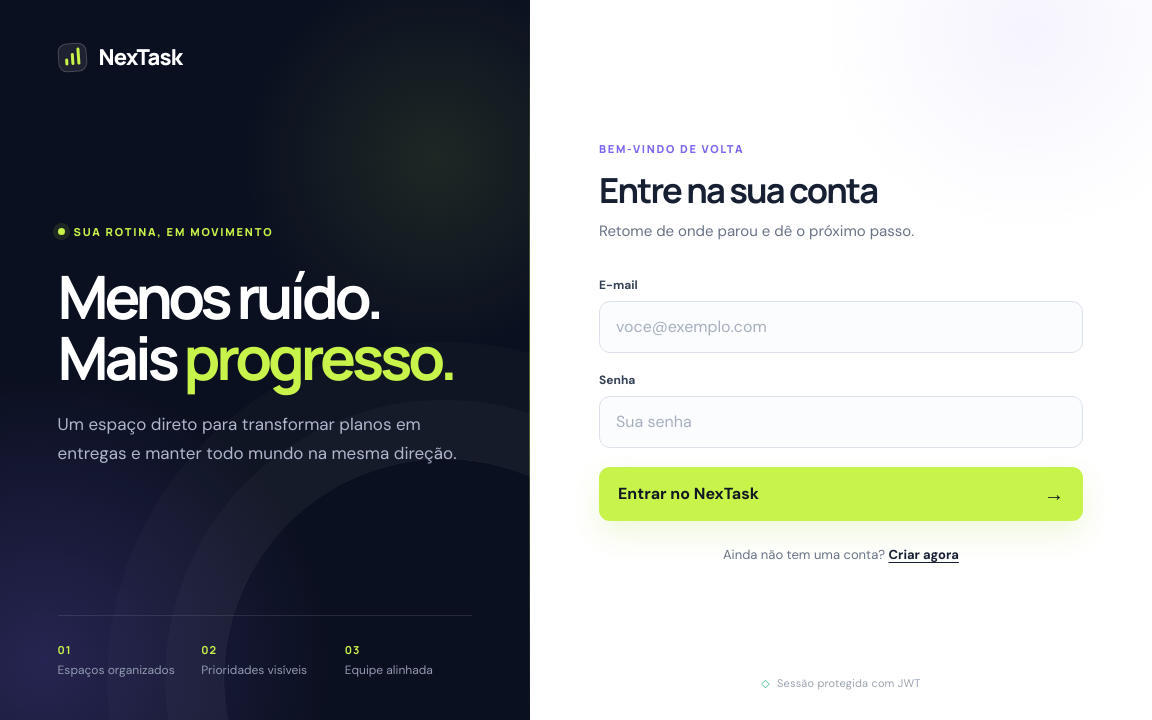
Test: NexTask frontend › shows the problem detail returned by the backend
Type "ana@example.com" into the field labelled "E-mail".
click(841, 327); type("ana@example.com")  # box top-left (599, 301), bottom-right (1083, 353)
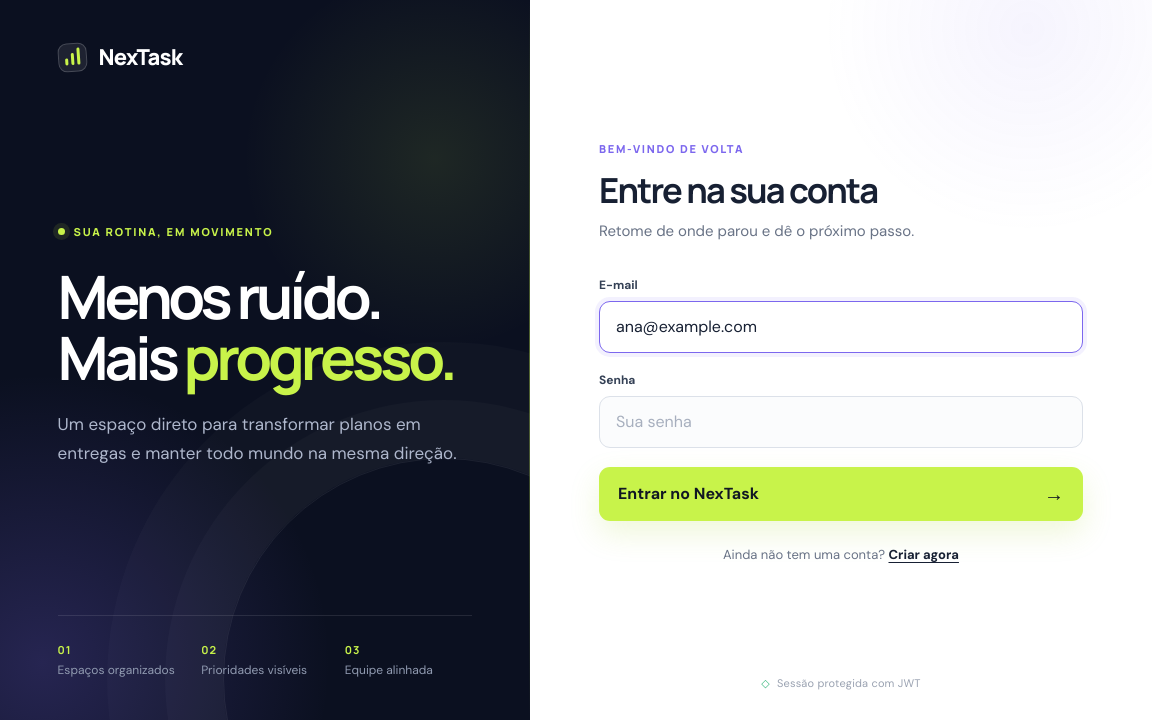
Type "wrong-password" into the password field labelled "Senha".
click(841, 422); type("wrong-password")  # box top-left (599, 396), bottom-right (1083, 448)
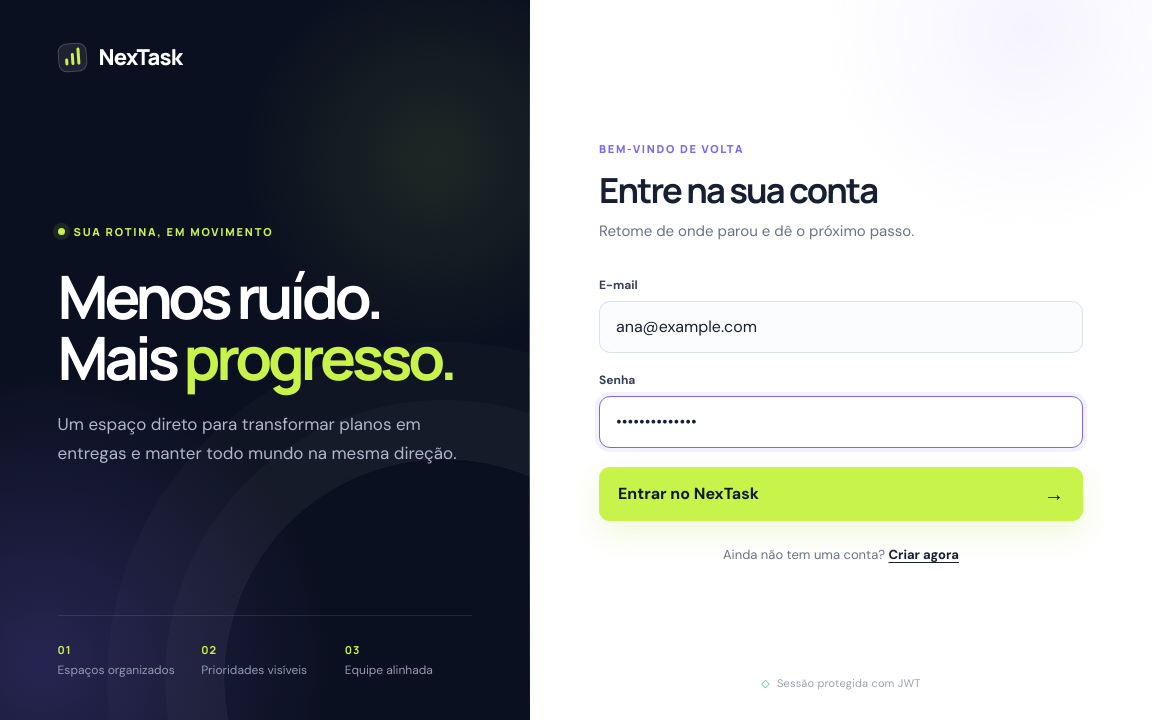
Click the button "Entrar no NexTask →".
click(688, 494)  # box top-left (599, 467), bottom-right (1083, 521)
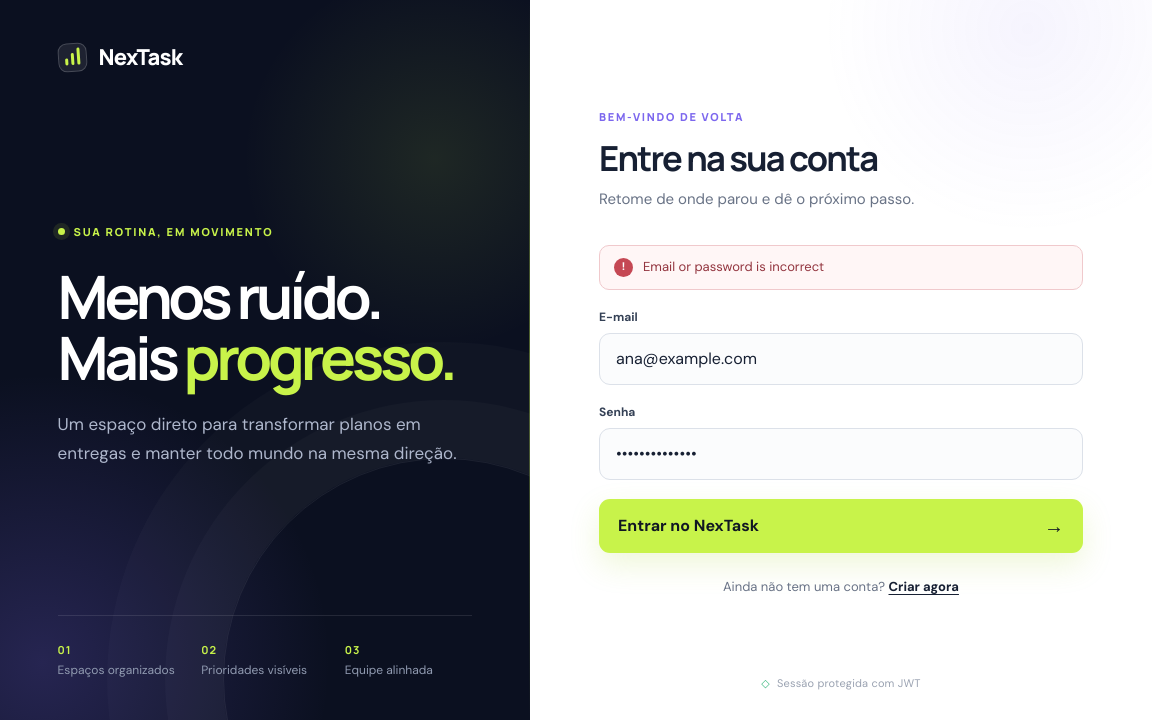
Expected: the message shows "Email or password is incorrect", top-left (643, 258), bottom-right (824, 275)
